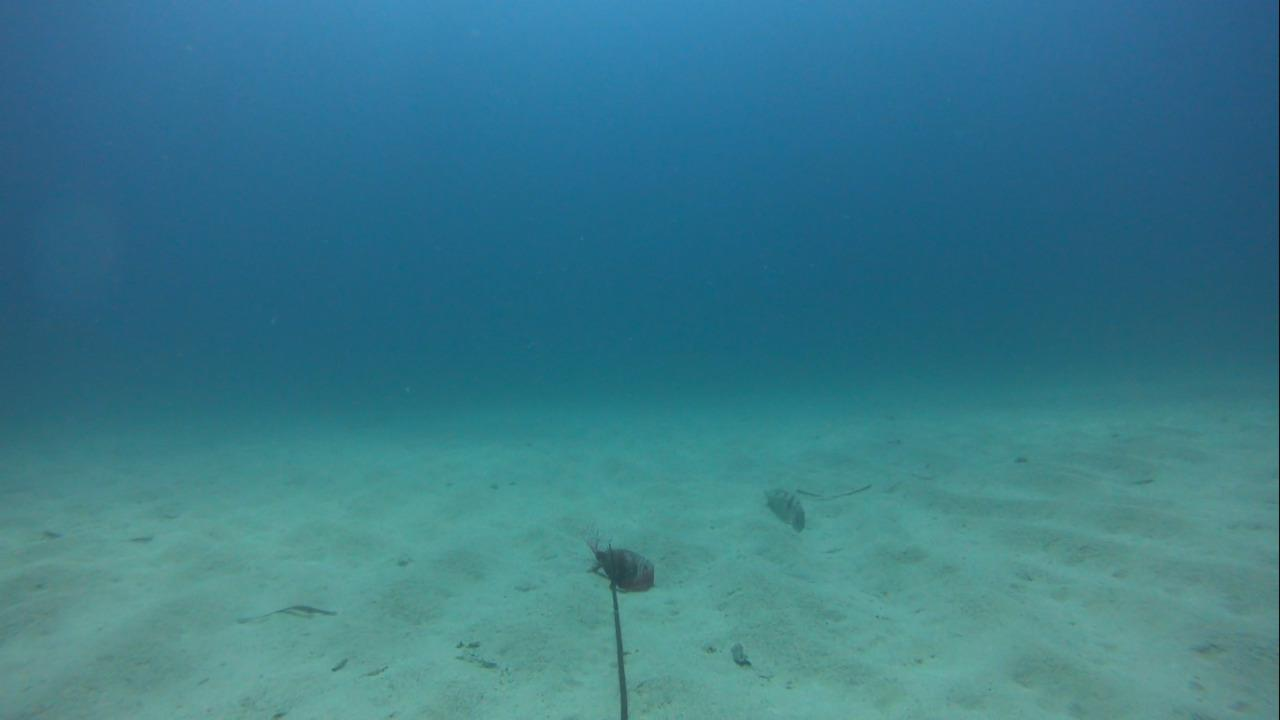raor: (747, 477, 811, 534)
